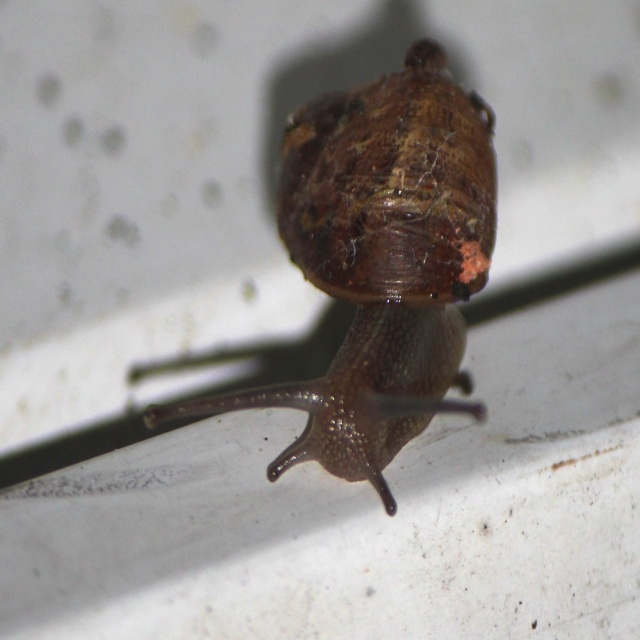Snail: (142, 34, 500, 518)
